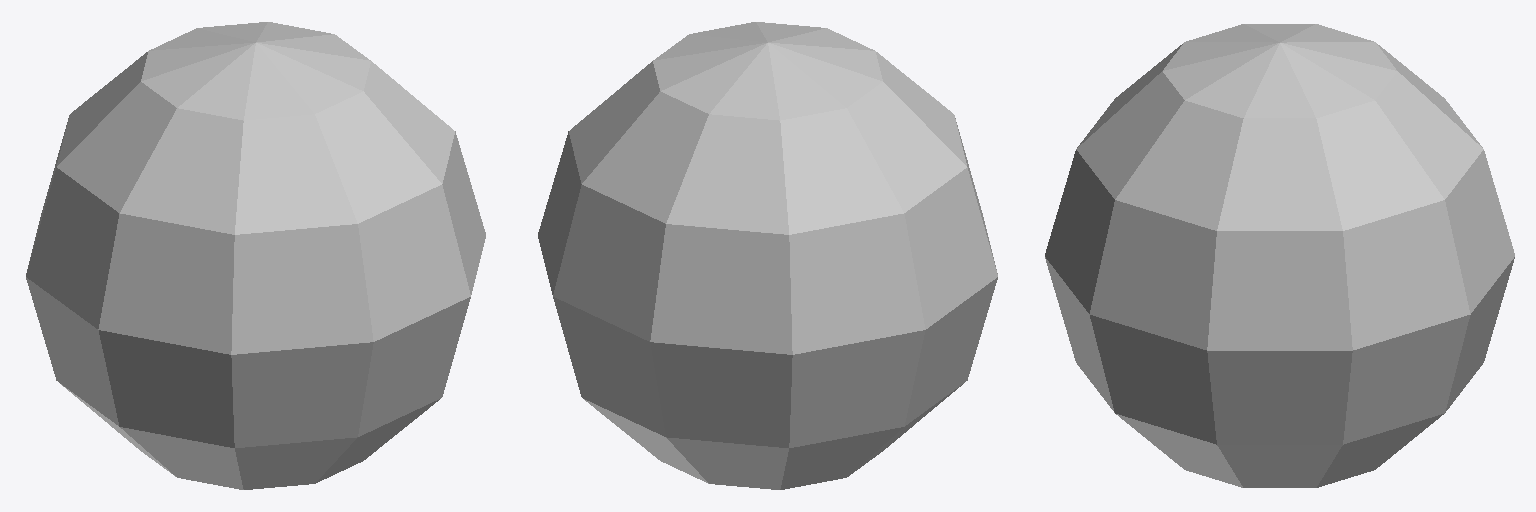
The model's file is bullet.obj.
3 renders of one model, left to right at view 1: azimuth 30°, elevation 25°; view 2: azimuth 150°, elevation 25°; view 3: azimuth 270°, elevation 25°, orthographic.
Parts seen in each view (by area): view 1: Cube_Cube.001; view 2: Cube_Cube.001; view 3: Cube_Cube.001.
Part boxes in pixels (x1,y1,x2,y2): Cube_Cube.001: (26,22,485,489); Cube_Cube.001: (538,22,997,489); Cube_Cube.001: (1045,24,1514,487).
Bounding box in the file's own units: 0.7114 × 0.748 × 0.748.